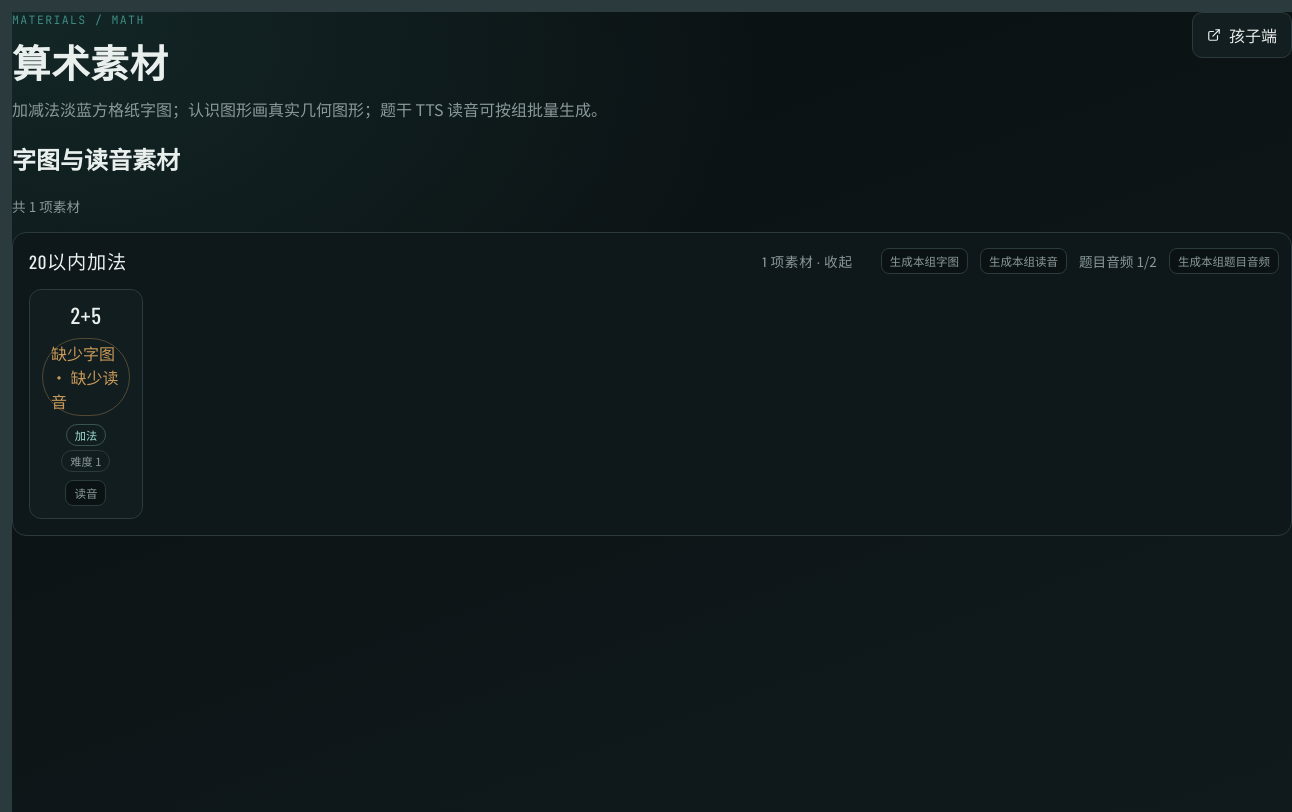
Test: MathPage question speech publishing › shows readiness and generates question audio for the module
Expected: the text "题目音频 1/2" is shown, top-left (1079, 251), bottom-right (1157, 271)
Expected: the text "缺少字图 · 缺少读音" is shown, top-left (42, 338), bottom-right (130, 416)
Step 1. Click the button "生成本组题目音频" → (1224, 261), box top-left (1169, 248), bottom-right (1279, 274)
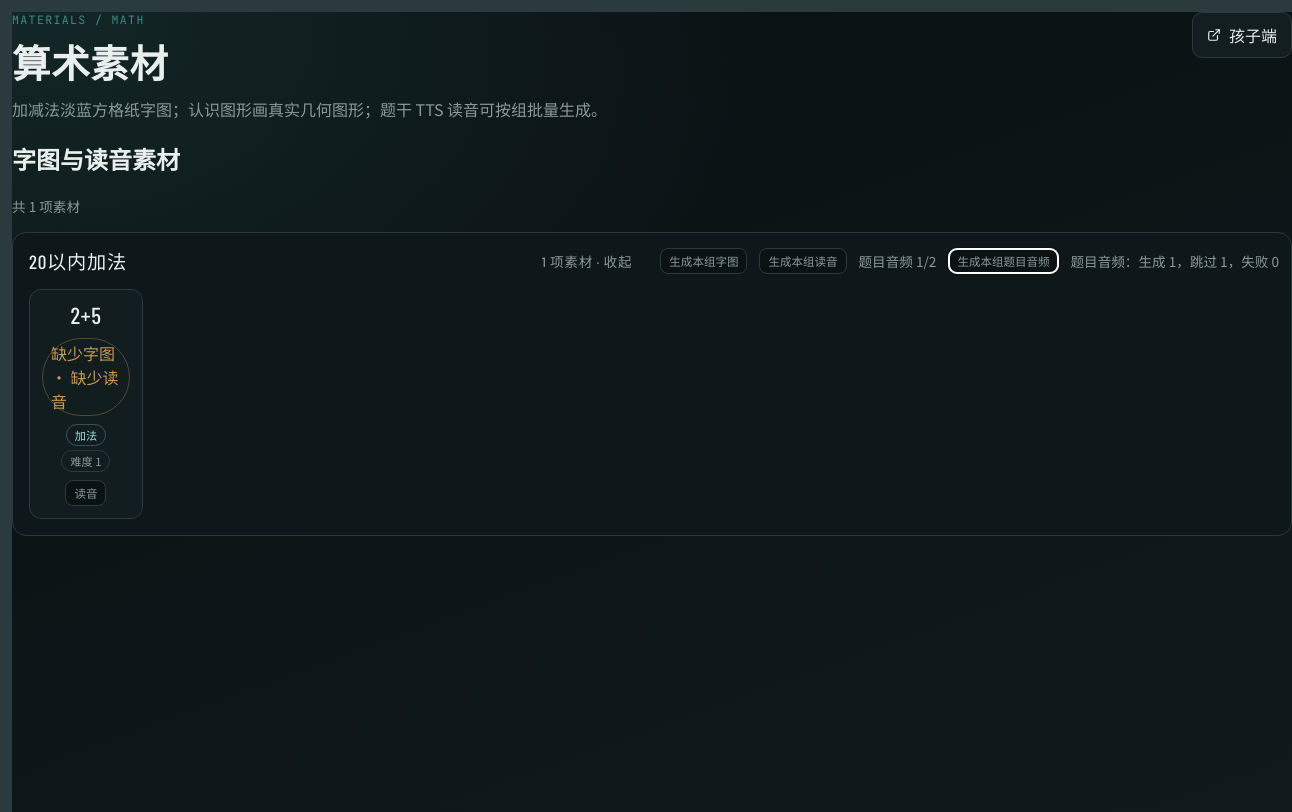
Result: the text "题目音频：生成 1，跳过 1，失败 0" is shown at top-left (1070, 251), bottom-right (1279, 271)
